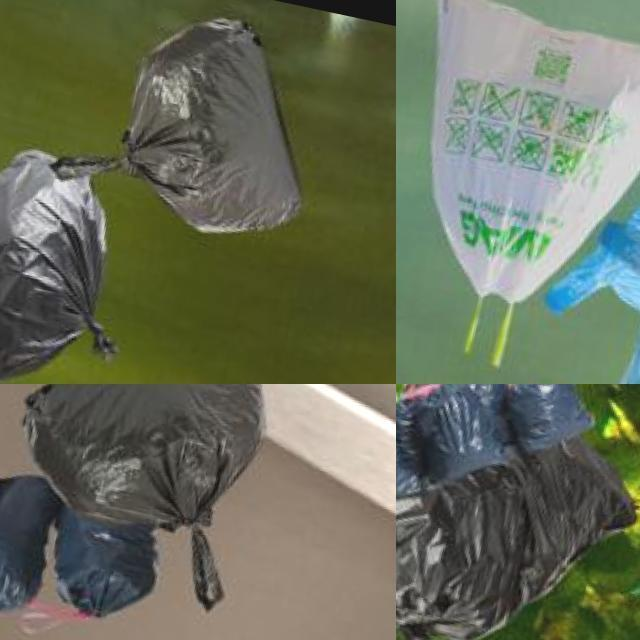waste: (396, 0, 640, 335), (396, 398, 640, 640), (110, 0, 337, 249), (23, 384, 290, 571), (0, 127, 154, 384), (527, 218, 640, 384), (42, 508, 176, 630), (396, 384, 532, 478), (0, 452, 60, 619), (500, 384, 607, 468), (396, 404, 429, 499)
